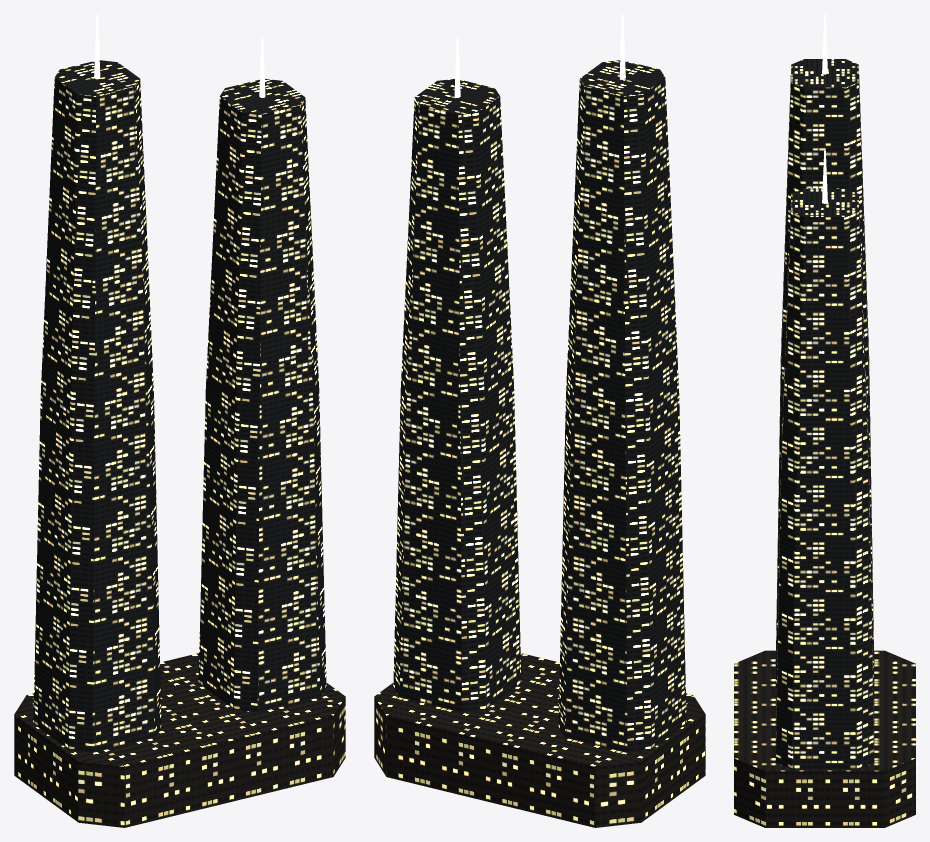
The model's file is astaka-towers.glb.
3 views of the same model, side by side, from view 1: azimuth 30°, elevation 25°; view 2: azimuth 150°, elevation 25°; view 3: azimuth 270°, elevation 25° (orthographic). The views are drawn at different scales.
Visible parts, largest first — view 1: tower-0, tower-1, podium; view 2: tower-0, tower-1, podium; view 3: tower-1, podium, tower-0.
Boxes of the visible parts, x1,y1,x2,y2 form: tower-0: [33, 60, 161, 752]; tower-1: [198, 79, 326, 712]; podium: [14, 653, 345, 827]; tower-0: [558, 60, 686, 752]; tower-1: [393, 79, 521, 712]; podium: [374, 653, 705, 827]; tower-1: [776, 188, 873, 768]; podium: [734, 650, 915, 827]; tower-0: [776, 59, 873, 687].
Size of the model in its own units: 110 by 304 by 70.
Materials: 3 (2 with a texture image).
